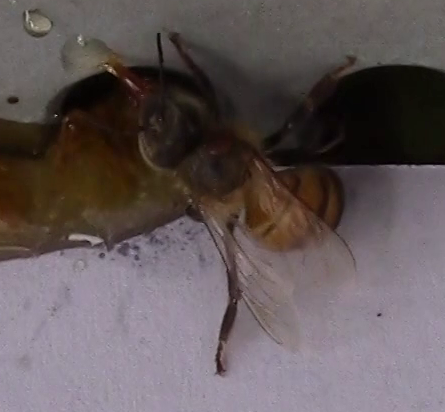Varroa destructor: (204, 129, 236, 155)
